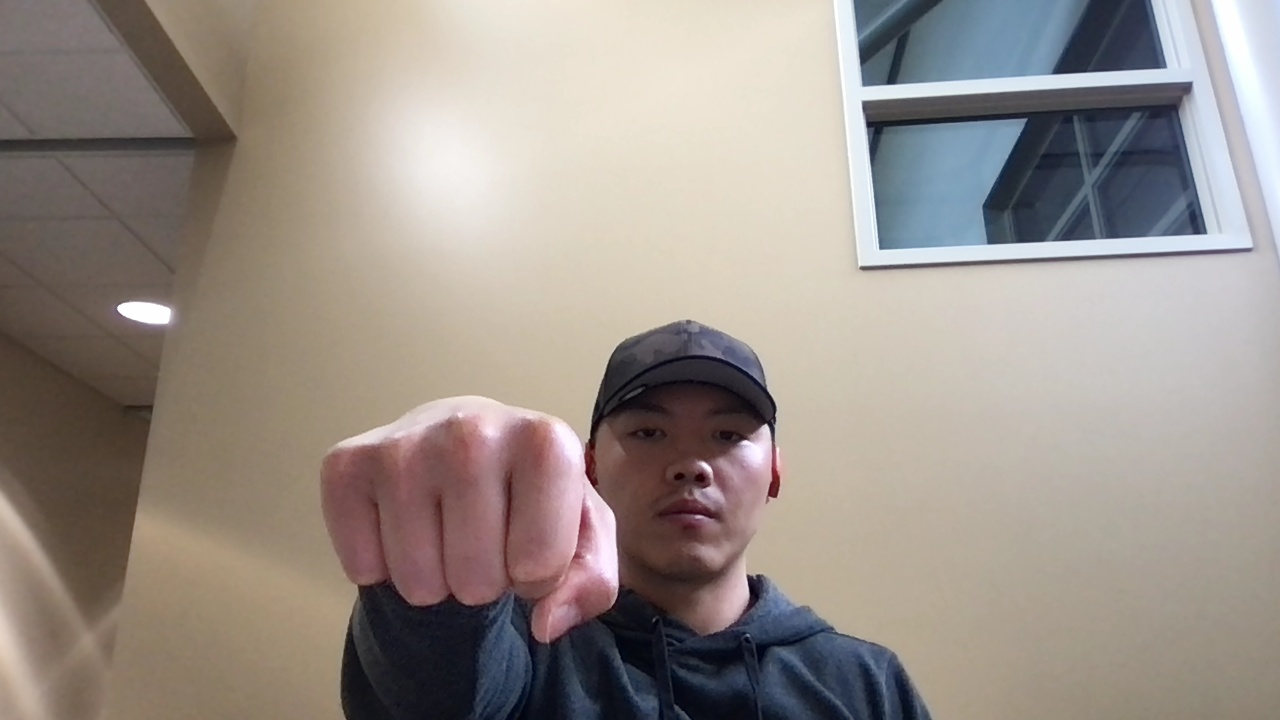Yes: (311, 382, 627, 648)
